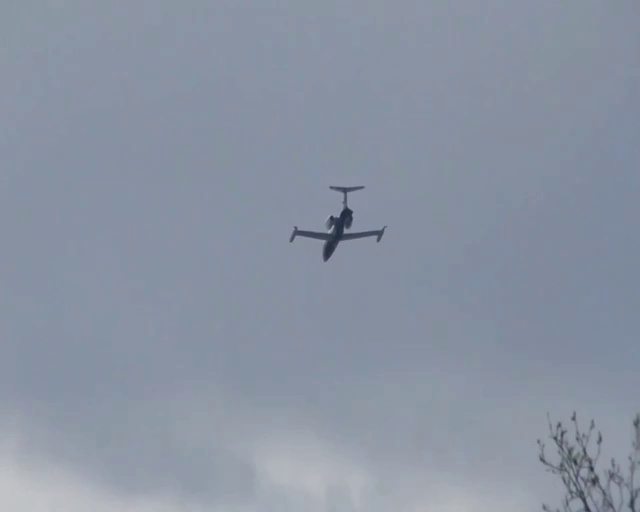AIRPLANE: (290, 184, 388, 262)
